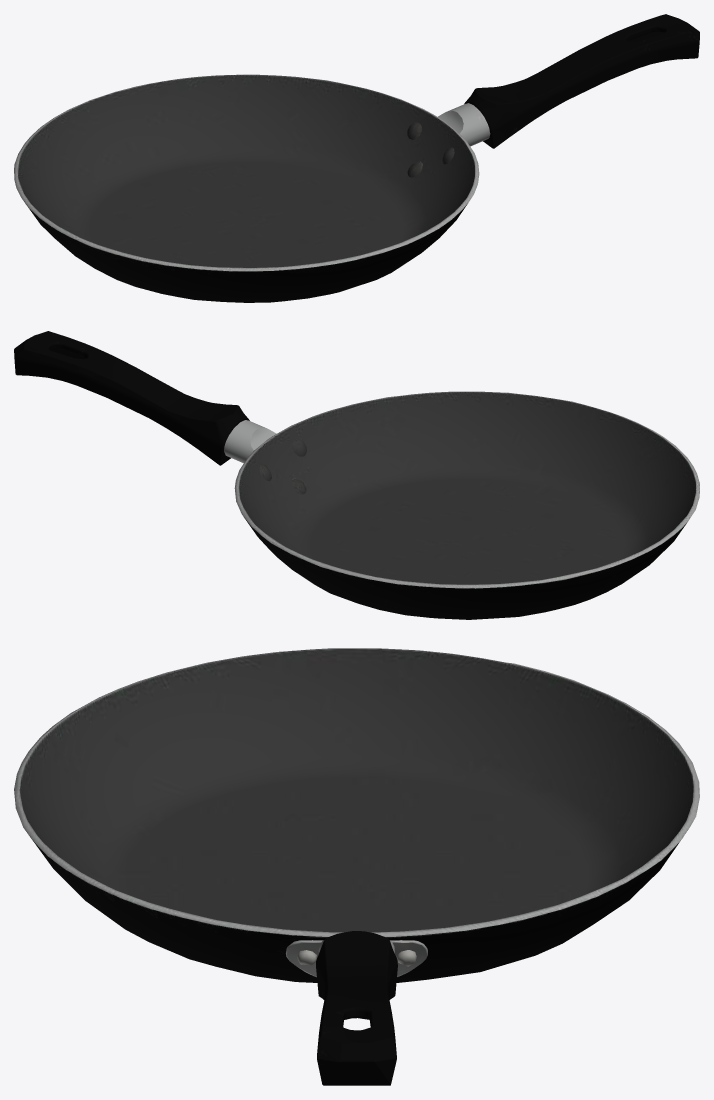
File: tagghaj_patelnia_40581153.glb
The picture shows the model from 3 angles, top to bottom: view 1: azimuth 30°, elevation 25°; view 2: azimuth 150°, elevation 25°; view 3: azimuth 270°, elevation 25°; orthographic projection. The views are drawn at different scales.
Visible parts, largest first — view 1: tagghaj_patelnia_40581153; view 2: tagghaj_patelnia_40581153; view 3: tagghaj_patelnia_40581153.
Boxes of the visible parts, <box> form: tagghaj_patelnia_40581153: <box>14,14,699,302</box>; tagghaj_patelnia_40581153: <box>14,331,699,619</box>; tagghaj_patelnia_40581153: <box>14,648,699,1085</box>.
Size of the model in its own units: 0.3864 by 0.0598 by 0.2402.
1 material, 1 textured.
